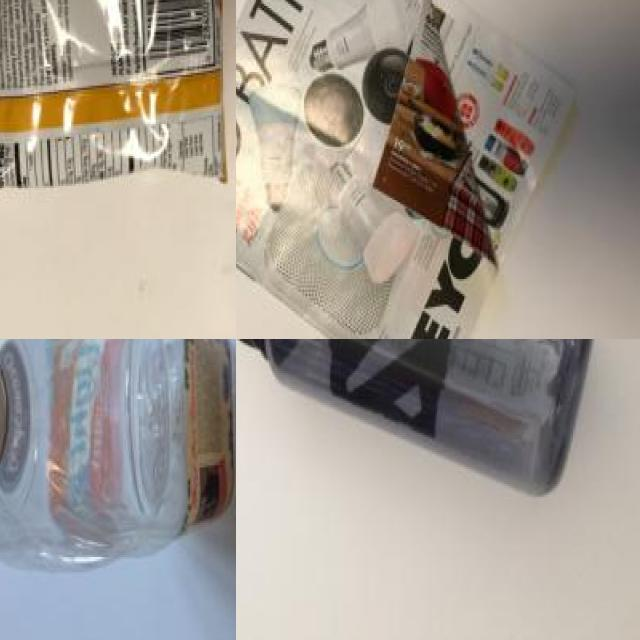paper: (236, 0, 568, 339)
plastic: (236, 339, 602, 499), (0, 339, 236, 571)
trash: (0, 0, 236, 205)
